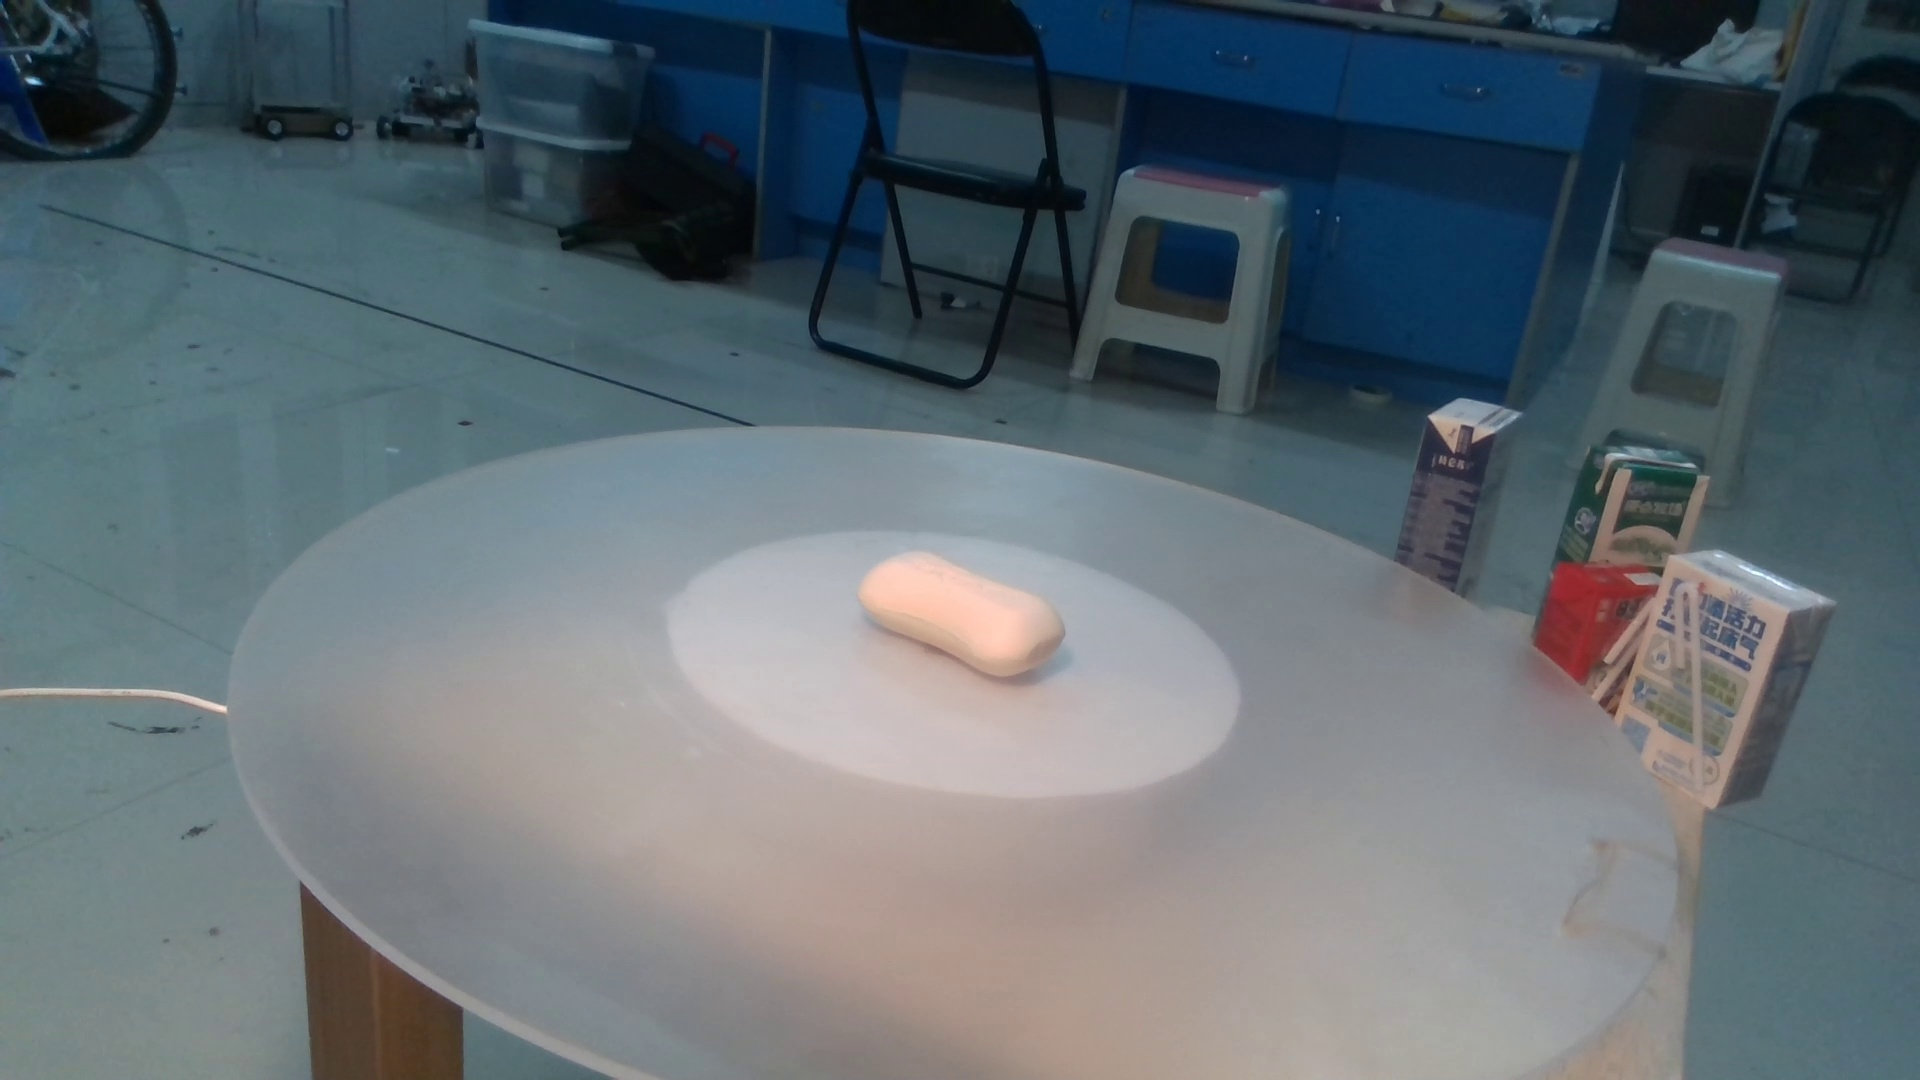CA003_1: (847, 534, 1088, 688)
